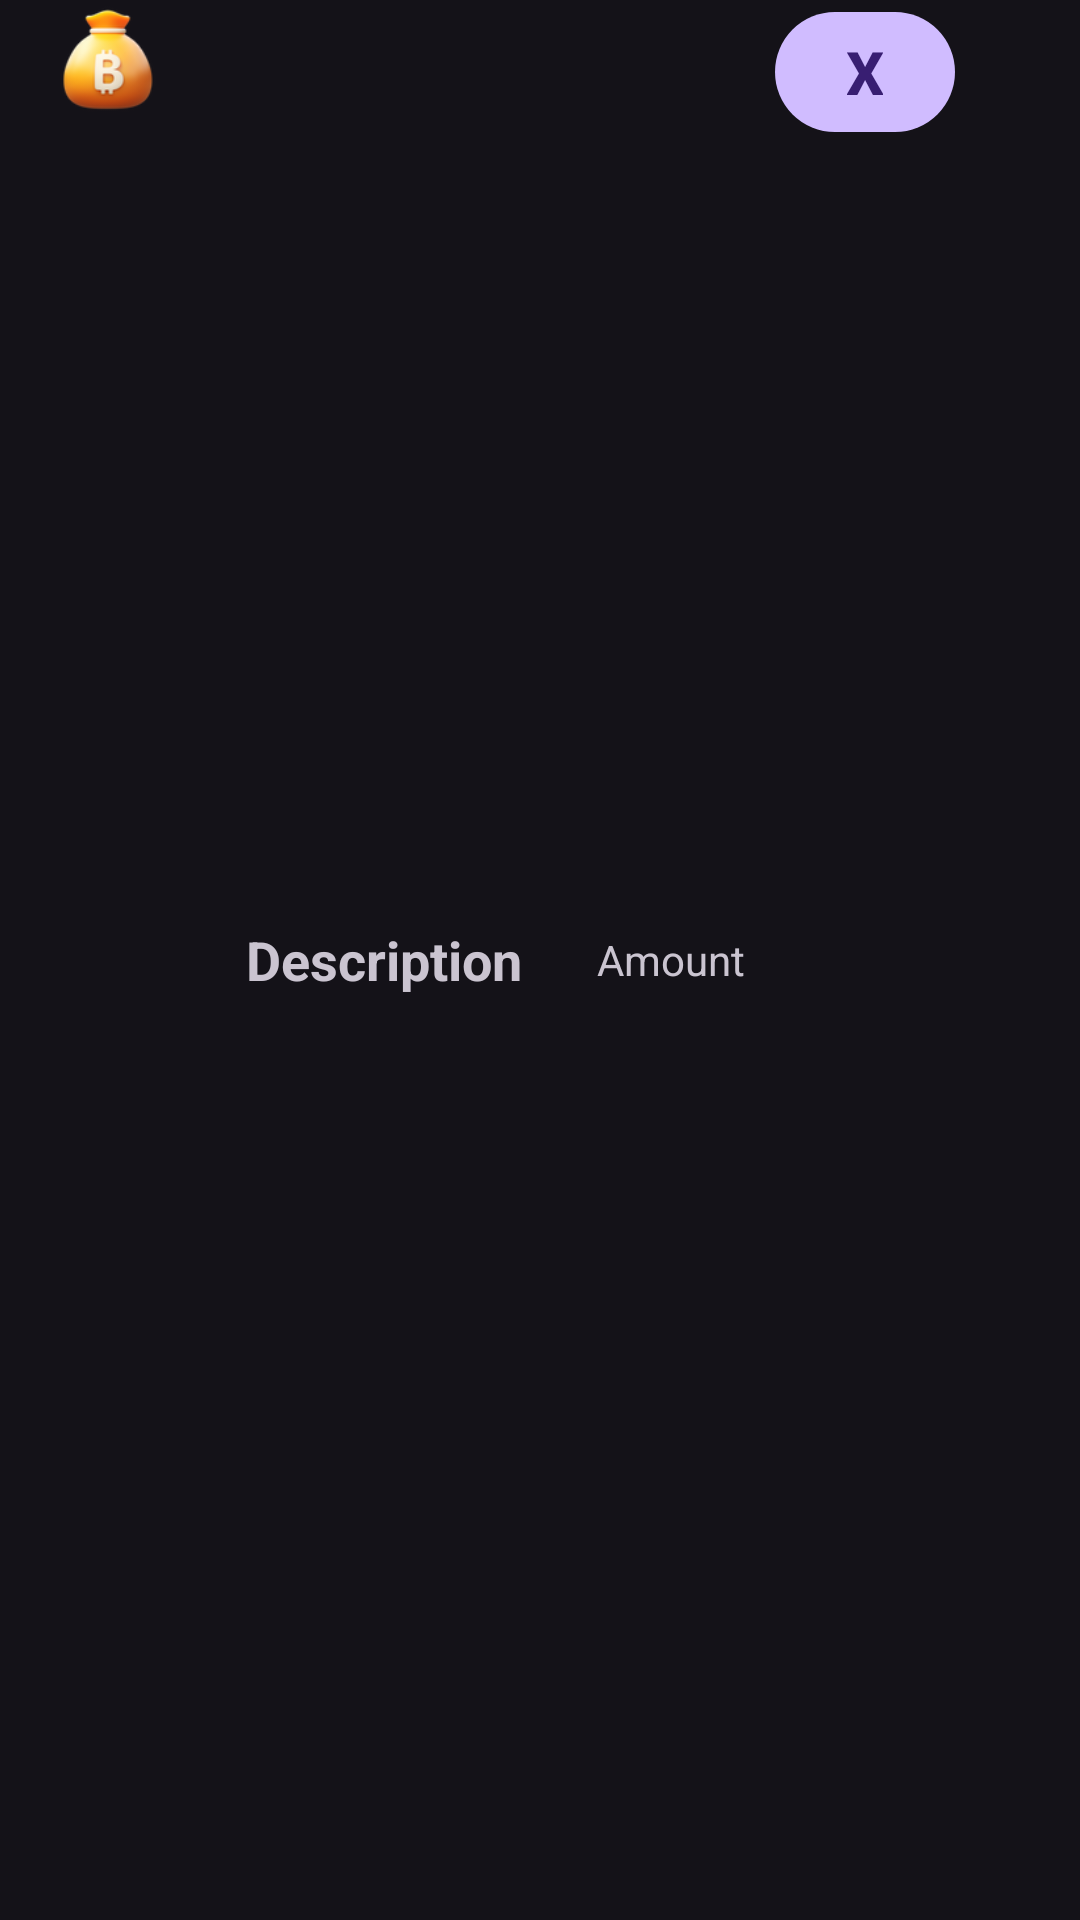

Screen size 1080×1920. Icon name, then its box in pixels as {"x1": x1, "y1": y1, "x2": x2, "y2": y2}:
crypto: {"x1": 63, "y1": 9, "x2": 153, "y2": 109}
